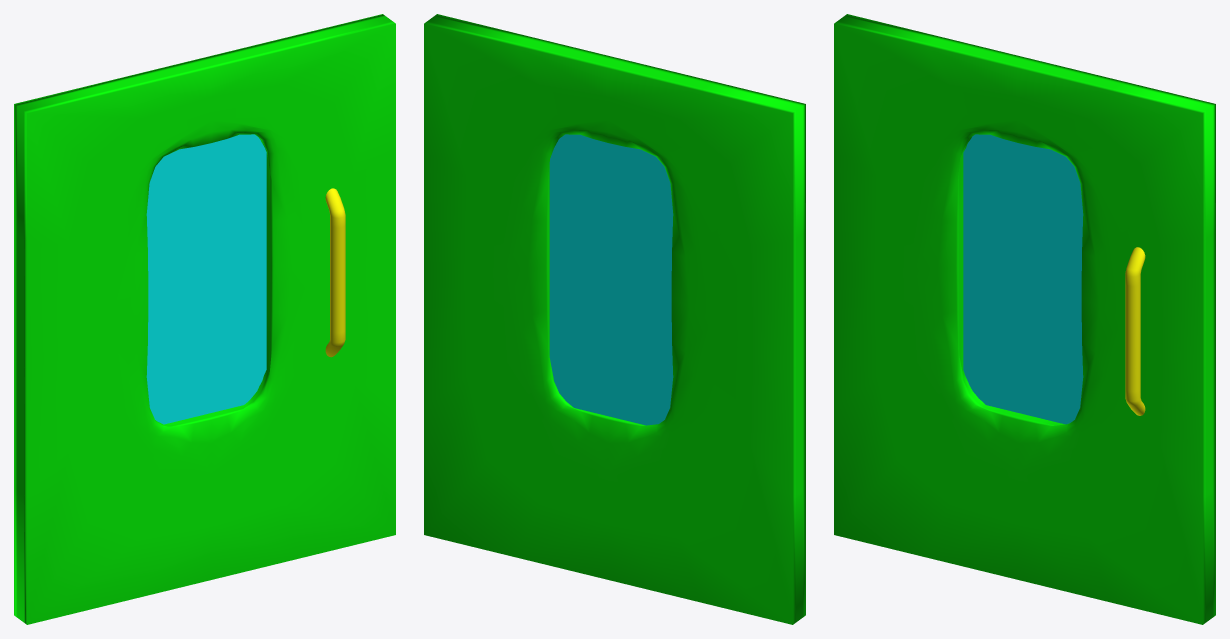
Rendered from porte sortie gauche.fbx.
3 views of the same model, side by side, from view 1: azimuth 30°, elevation 25°; view 2: azimuth 150°, elevation 25°; view 3: azimuth 330°, elevation 25° (orthographic).
Visible parts, largest first — view 1: pPlane4, pCube173, pCylinder2; view 2: pPlane4, pCube173; view 3: pPlane4, pCube173, pCylinder2.
Part boxes in pixels (x1,y1,x2,y2): pPlane4: [14, 14, 395, 624]; pCube173: [146, 134, 266, 424]; pCylinder2: [325, 188, 345, 357]; pPlane4: [424, 14, 805, 624]; pCube173: [549, 134, 673, 425]; pPlane4: [834, 14, 1215, 624]; pCube173: [963, 134, 1083, 424]; pCylinder2: [1125, 247, 1145, 415].
Size of the model in its own units: 4.88 by 6.47 by 0.523.
